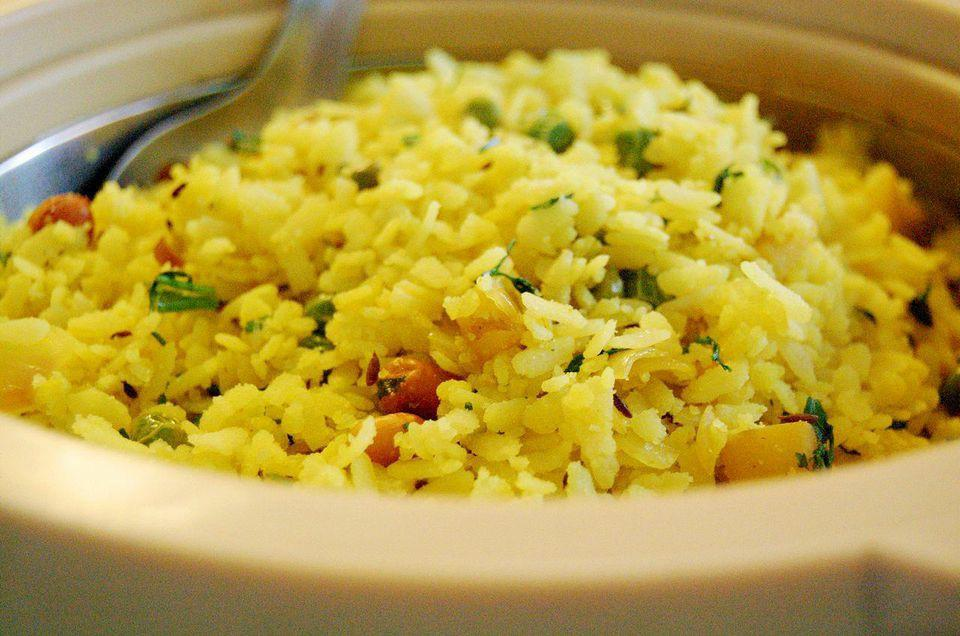Poha: (4, 43, 960, 488)
